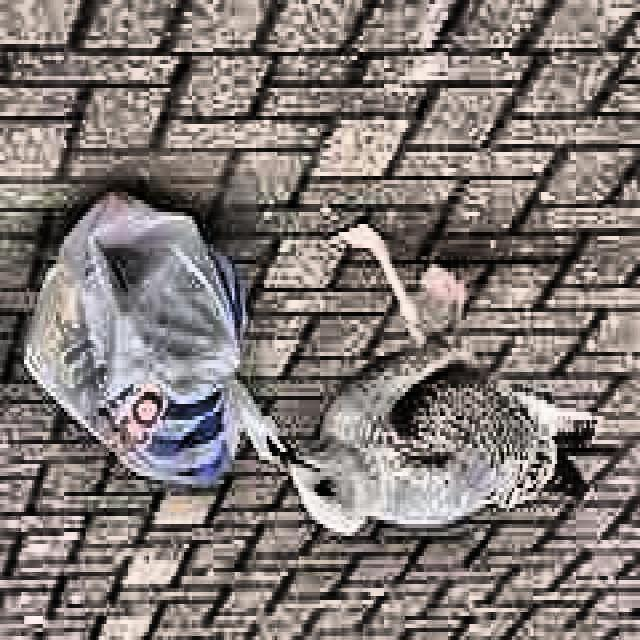Anorganik: (27, 158, 276, 509)
